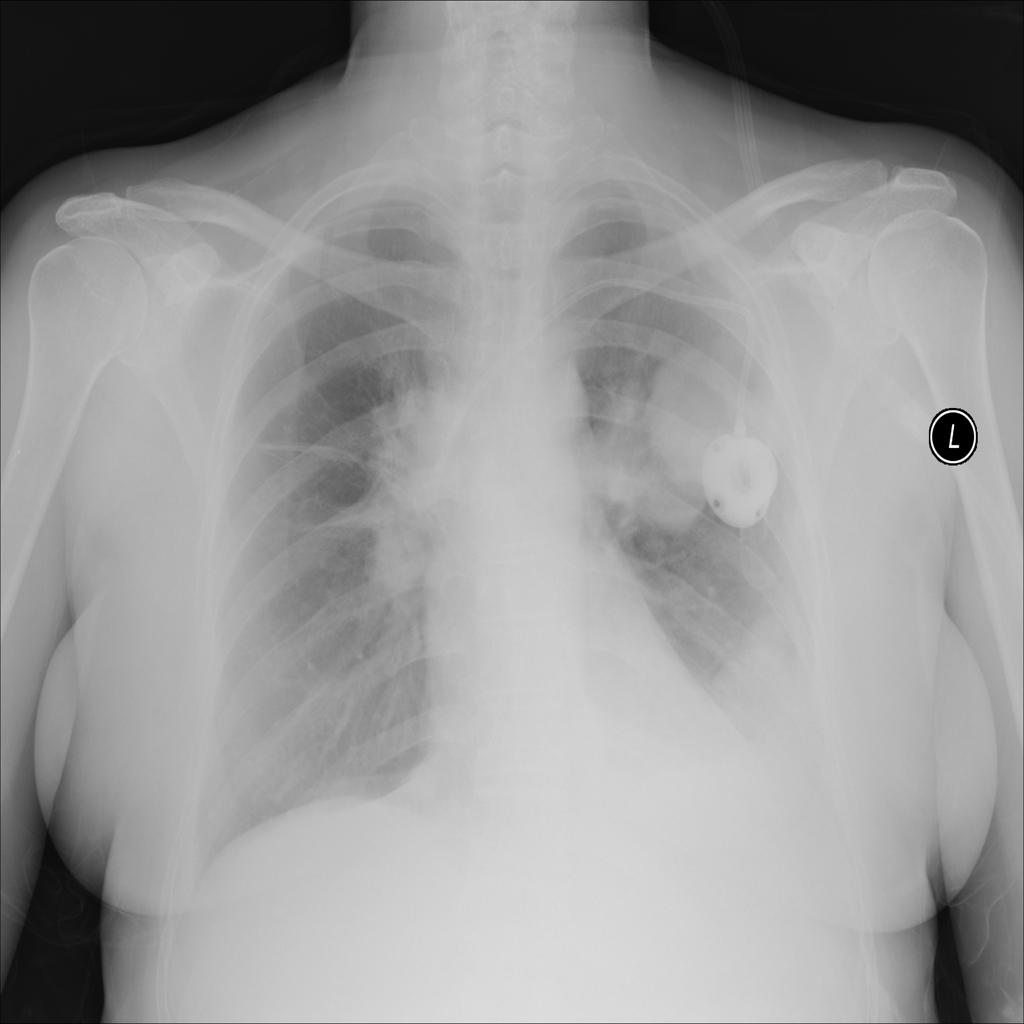nodule: (631, 336, 791, 512), (354, 520, 436, 608), (393, 757, 455, 814)
